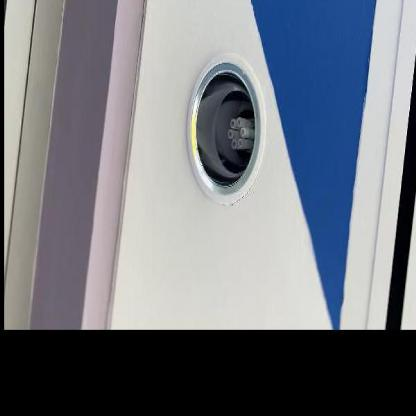light_off: (175, 12, 278, 219)
